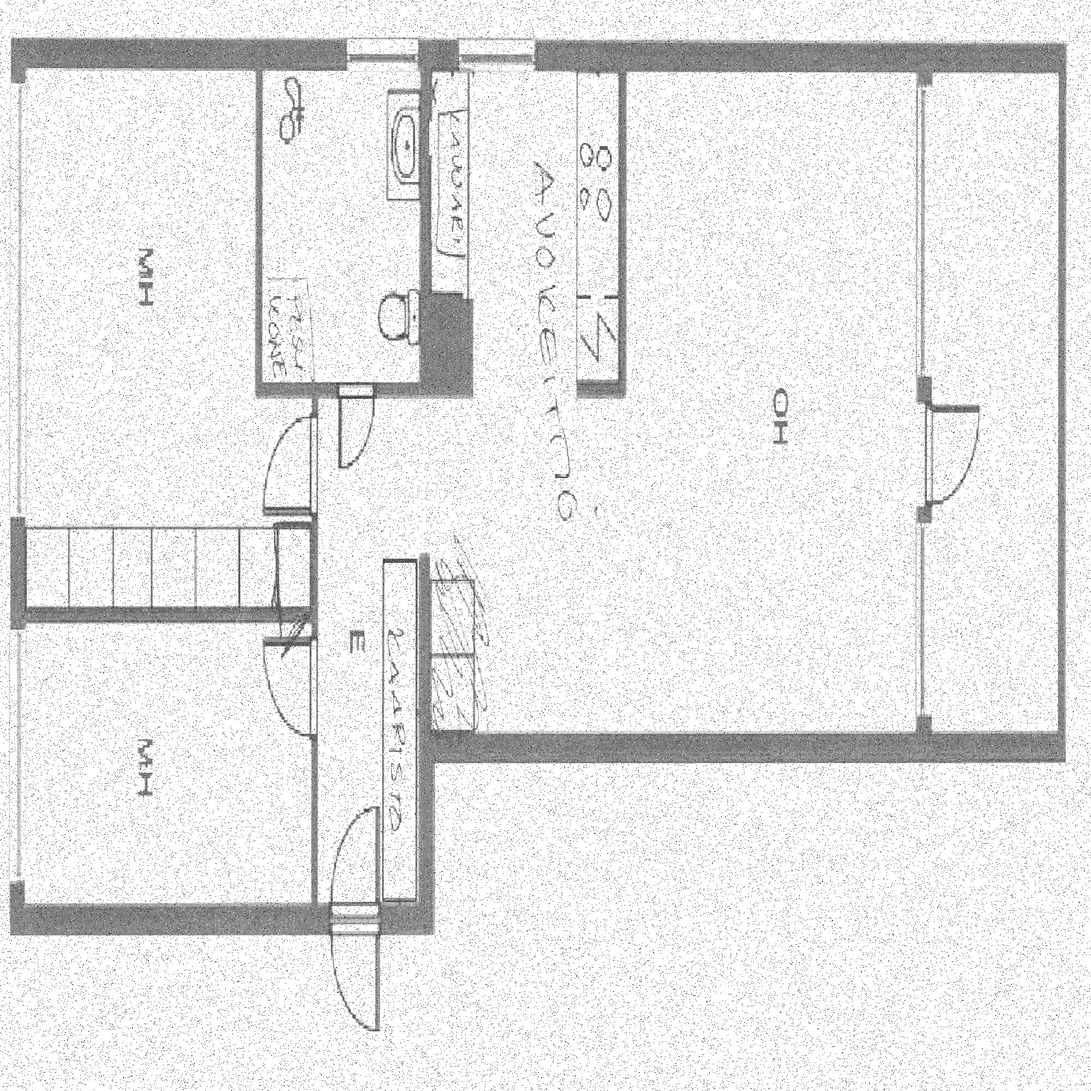wall: (9, 40, 932, 71), (418, 734, 932, 766), (9, 905, 434, 937), (9, 40, 24, 937), (917, 40, 933, 766), (420, 299, 474, 399), (9, 607, 319, 624), (311, 382, 319, 937), (932, 41, 1067, 73), (932, 734, 1066, 766), (420, 40, 431, 399), (418, 734, 434, 937), (256, 382, 431, 399), (255, 40, 263, 399), (619, 40, 627, 396), (418, 551, 432, 735), (577, 380, 627, 397), (275, 523, 280, 625), (275, 523, 319, 530), (1066, 749, 1067, 766)
